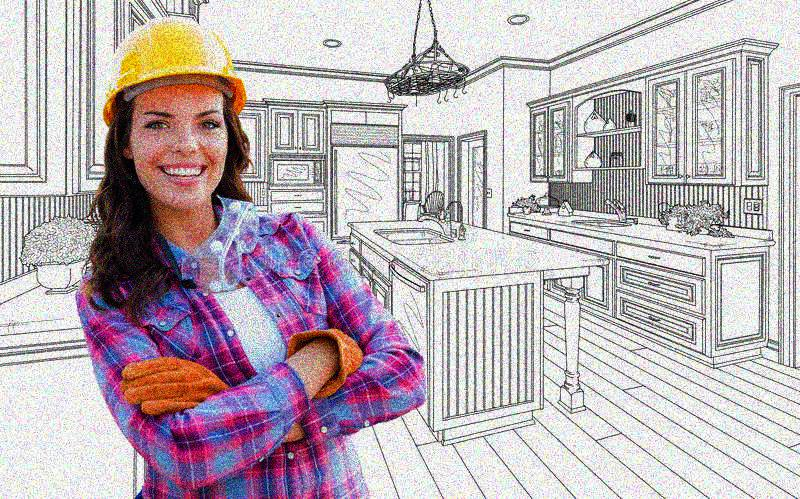helmet: (104, 13, 247, 216)
